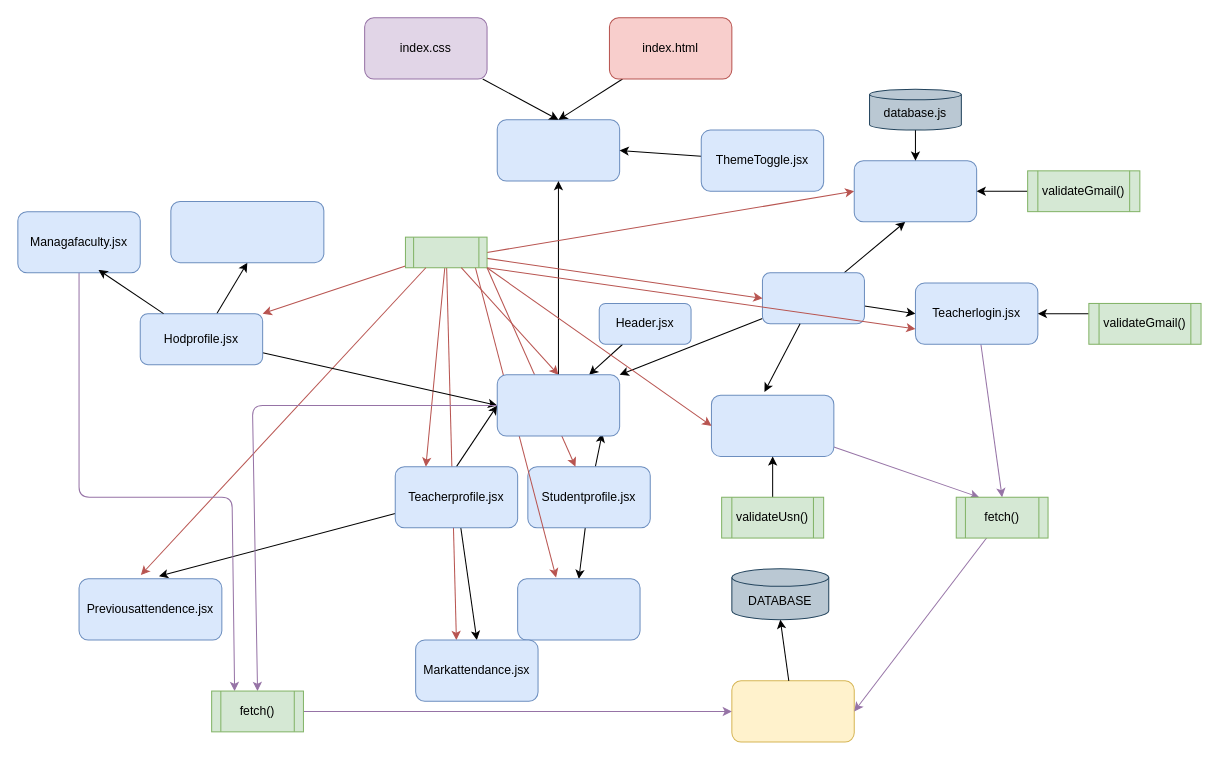
This 1219x760 diagram has some shape labels left out. Each missing label, with the box of its shape:
App.jsx: (496, 374, 620, 436)
Attendancedetails.jsx: (170, 200, 324, 263)
Hodlogin.jsx: (853, 160, 977, 222)
LoginPage.jsx: (761, 272, 864, 324)
main.jsx: (496, 119, 620, 181)
navigate(): (404, 236, 487, 268)
server.js: (731, 680, 854, 742)
Studentlogin.jsx: (710, 394, 834, 456)
Subjectdetails.jsx: (517, 578, 640, 640)
